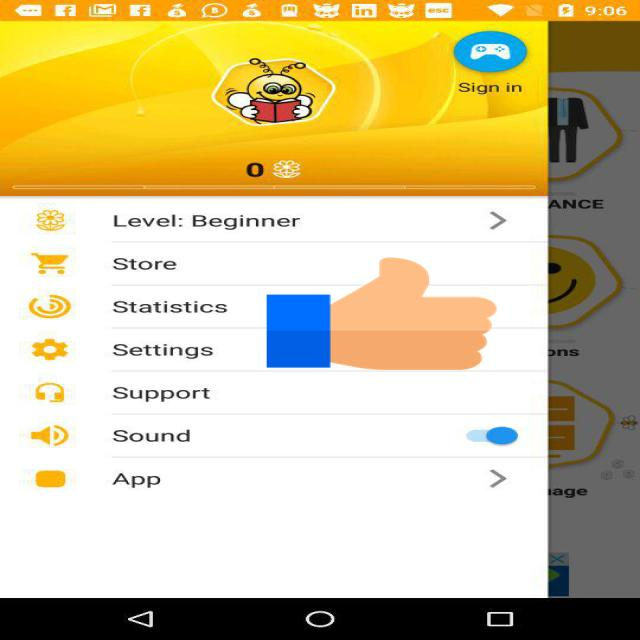privacy zuckering: (266, 255, 496, 372)
